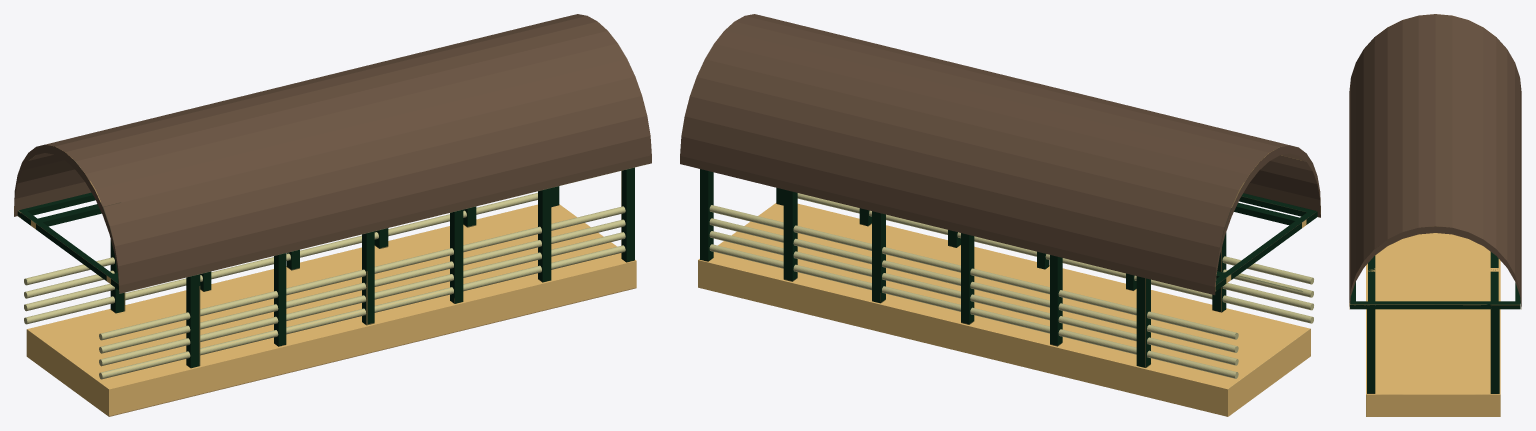
File: OVERPASS #2 (CENTER).fbx
The picture shows the model from 3 angles, left to right: view 1: azimuth 30°, elevation 25°; view 2: azimuth 150°, elevation 25°; view 3: azimuth 270°, elevation 25°; orthographic projection. The views are drawn at different scales.
Parts seen in each view (by area): view 1: CENTER; view 2: CENTER; view 3: CENTER.
Boxes of the visible parts, x1=… form: CENTER: x1=14, y1=14, x2=651, y2=416; CENTER: x1=680, y1=14, x2=1320, y2=416; CENTER: x1=1349, y1=14, x2=1521, y2=416.
Size of the model in its own units: 4051 by 1690 by 1374.
Materials: 1 (1 with a texture image).
